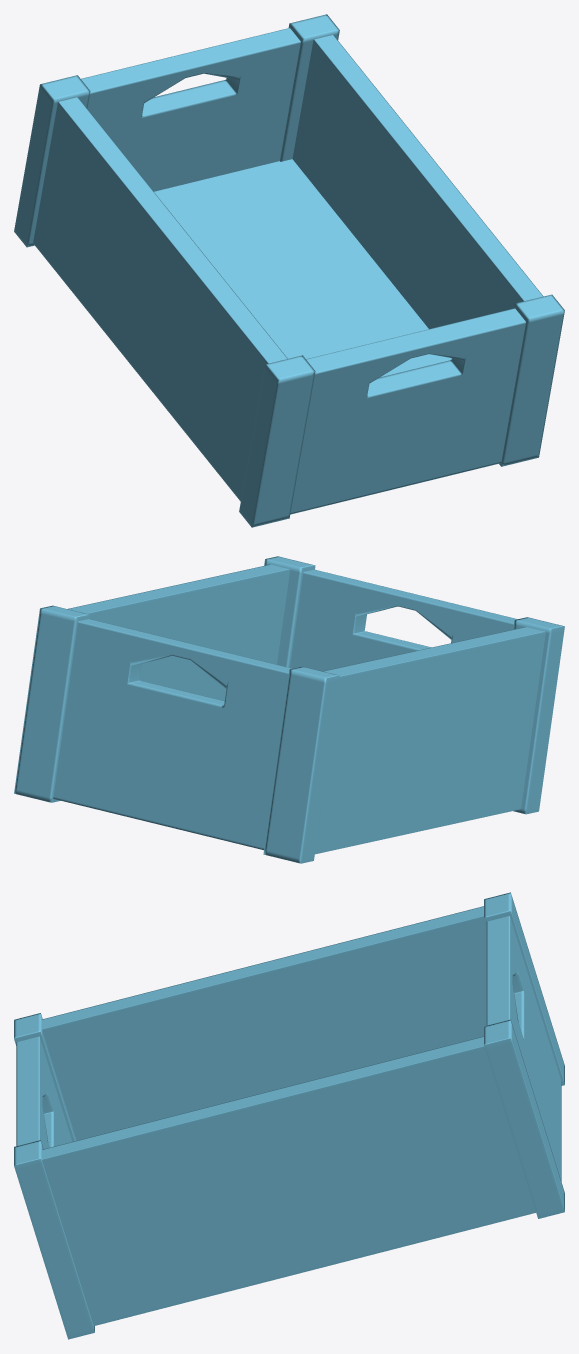
Rendered from fruit crate.fbx.
The picture shows the model from 3 angles, top to bottom: view 1: azimuth 30°, elevation 25°; view 2: azimuth 150°, elevation 25°; view 3: azimuth 270°, elevation 25°; orthographic projection. The views are drawn at different scales.
Visible parts, largest first — view 1: Cube.007; view 2: Cube.007; view 3: Cube.007.
Boxes of the visible parts, bbox=[...] form: Cube.007: bbox=[14, 14, 564, 527]; Cube.007: bbox=[14, 556, 564, 863]; Cube.007: bbox=[14, 892, 564, 1339].
Bounding box in the file's own units: 40.45 × 38.81 × 64.39.
